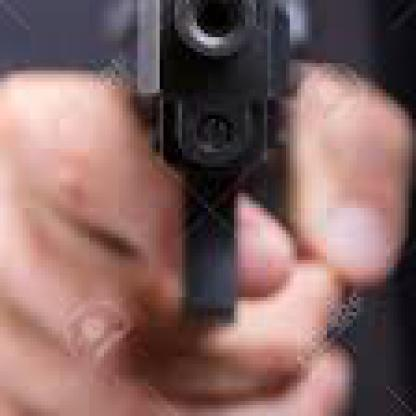gun: (86, 0, 349, 357)
